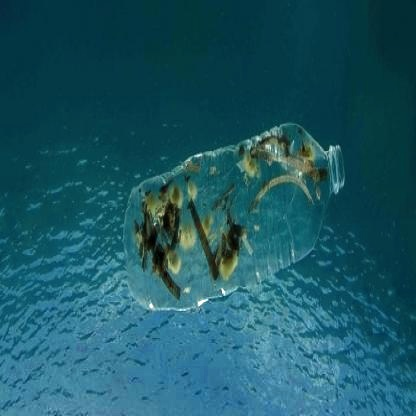pbottle: (114, 107, 348, 340)
